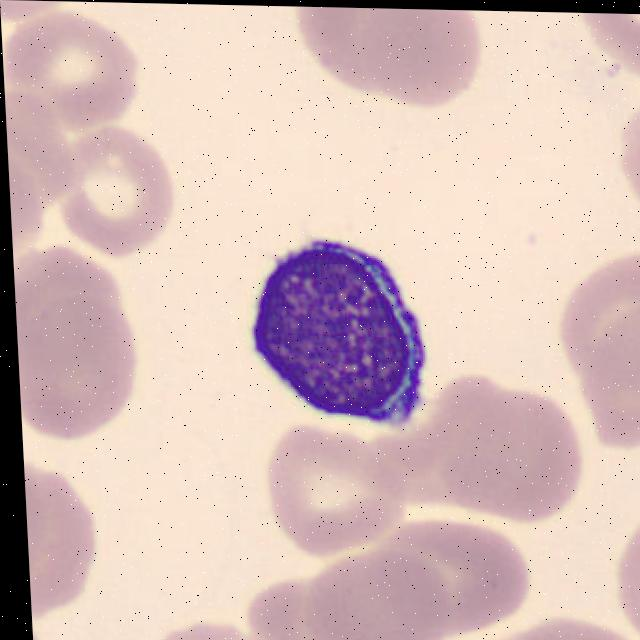lymphocyte: (244, 228, 445, 438)
rbc: (286, 6, 506, 126), (445, 372, 585, 525), (261, 424, 415, 559), (378, 512, 533, 637), (54, 124, 185, 263), (16, 300, 139, 445), (417, 369, 536, 511), (1, 11, 132, 134), (292, 545, 456, 640), (548, 229, 640, 392), (24, 456, 112, 609), (558, 312, 640, 458), (13, 244, 133, 340), (365, 427, 467, 523), (467, 605, 640, 640), (245, 578, 340, 640), (571, 13, 640, 84), (607, 78, 640, 219), (145, 605, 259, 640), (612, 507, 640, 640), (32, 622, 53, 640), (632, 514, 633, 515)
